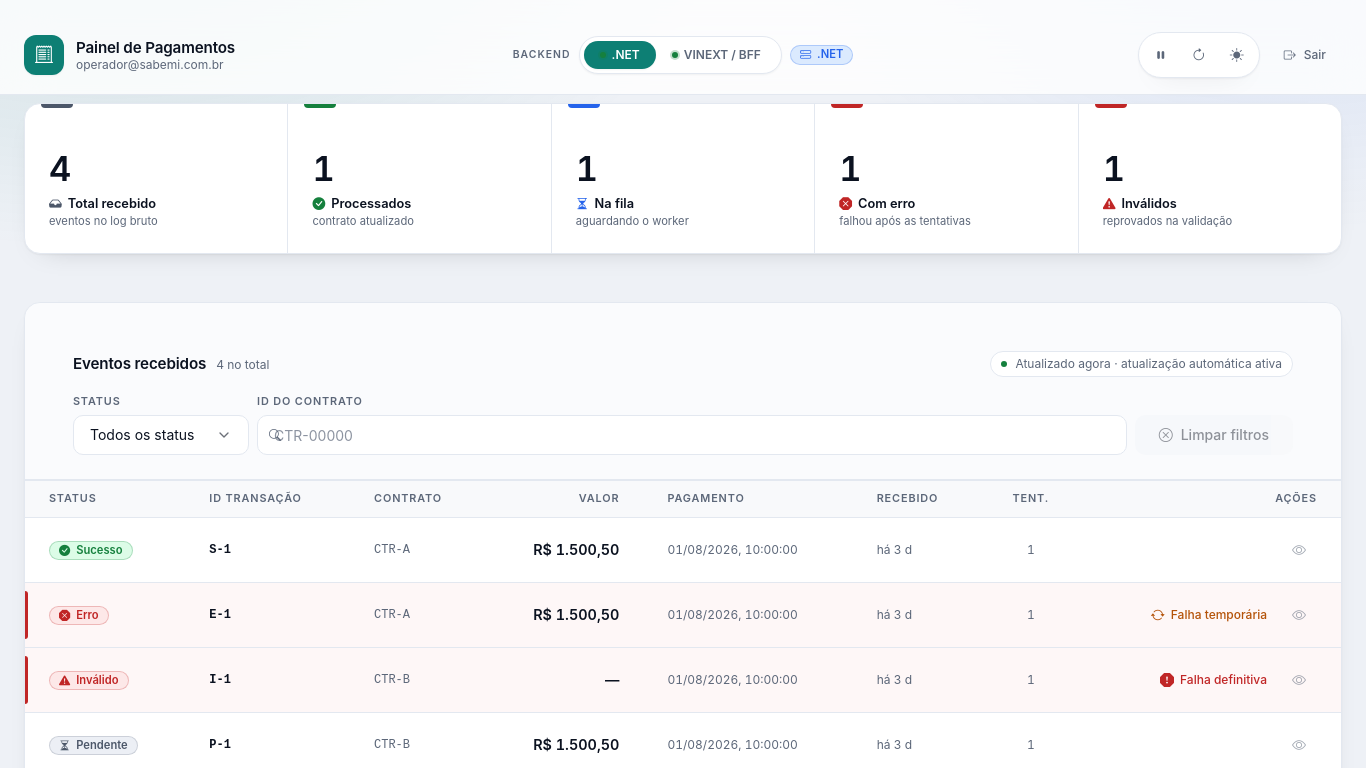
Test: detalhe do evento › abre o payload bruto recebido
This screenshot has width=1366, height=768.
Expected: the text "S-1" is shown, 185,517 -> 350,582
Click the button named "ver detalhes" in the row of "Sucesso" at [1299, 550], box 1281,532 -> 1317,568
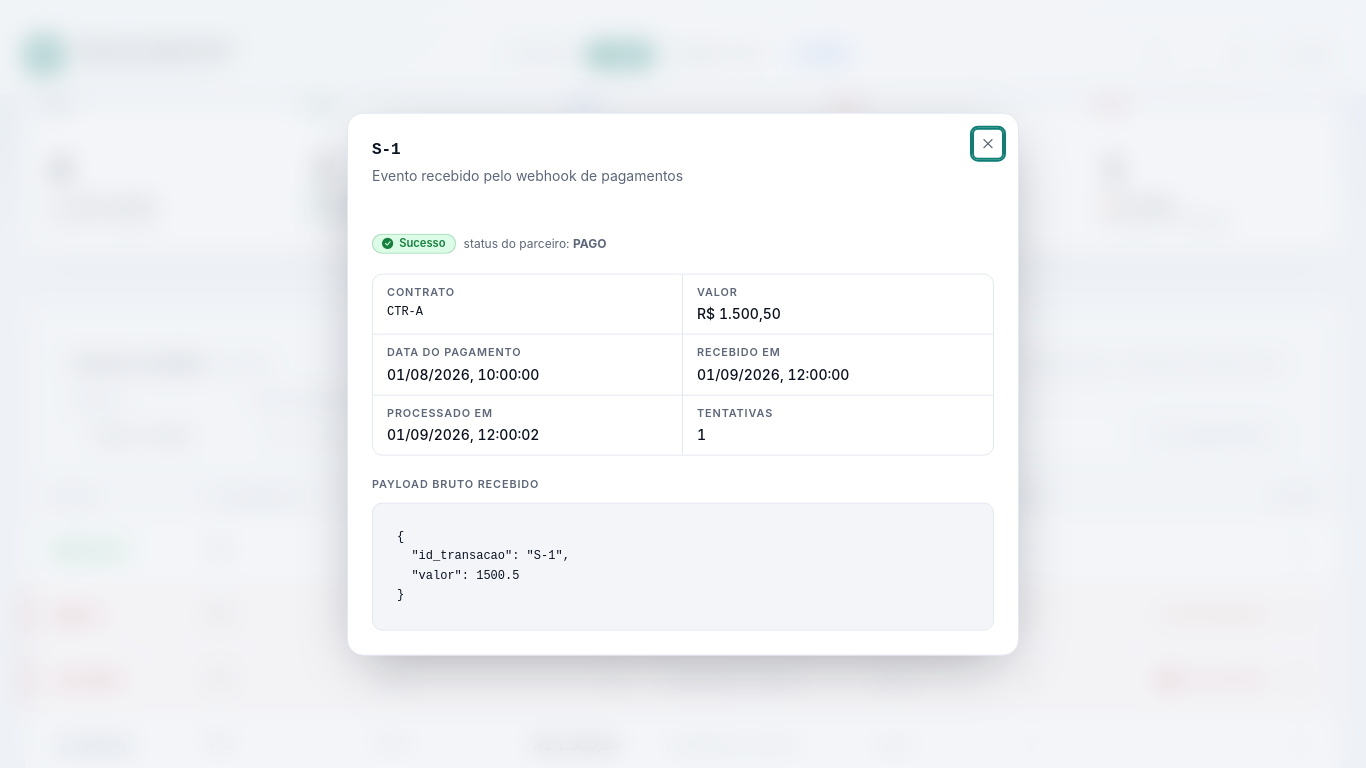
Result: the heading "Payload bruto recebido" is shown at 372,477 -> 539,491
